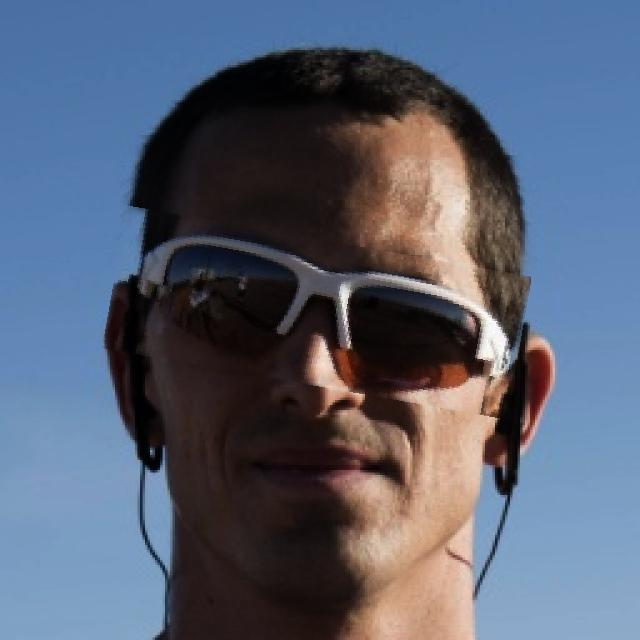glasses: (106, 223, 527, 402)
